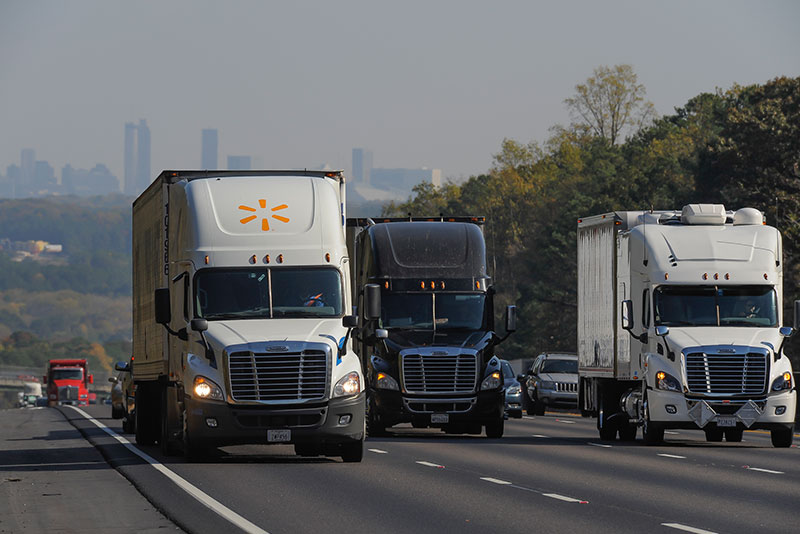truck: (122, 167, 369, 460), (577, 205, 795, 454), (340, 215, 501, 440), (45, 357, 92, 409)
